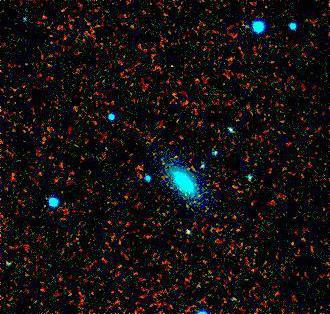star: (164, 105, 194, 135)
